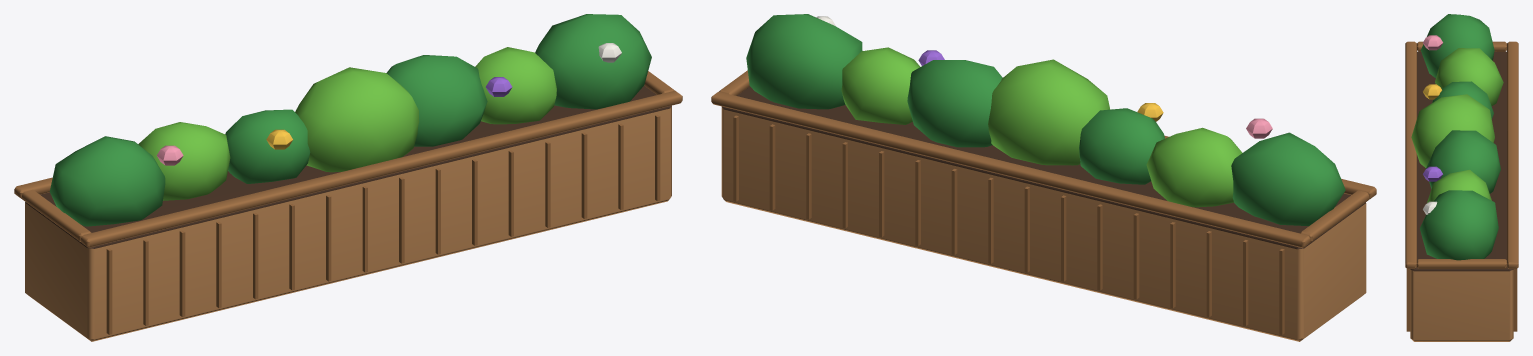
The model's file is Jardinera.fbx.
3 views of the same model, side by side, from view 1: azimuth 30°, elevation 25°; view 2: azimuth 150°, elevation 25°; view 3: azimuth 270°, elevation 25° (orthographic). The views are drawn at different scales.
Visible parts, largest first — view 1: Jardinera; view 2: Jardinera; view 3: Jardinera.
Part boxes in pixels (x1=…): Jardinera: x1=14, y1=14, x2=682, y2=341; Jardinera: x1=711, y1=14, x2=1376, y2=341; Jardinera: x1=1405, y1=14, x2=1518, y2=341.
Size of the model in its own units: 8.16 by 2.36 by 1.76.
Materials: 1 (1 with a texture image).
